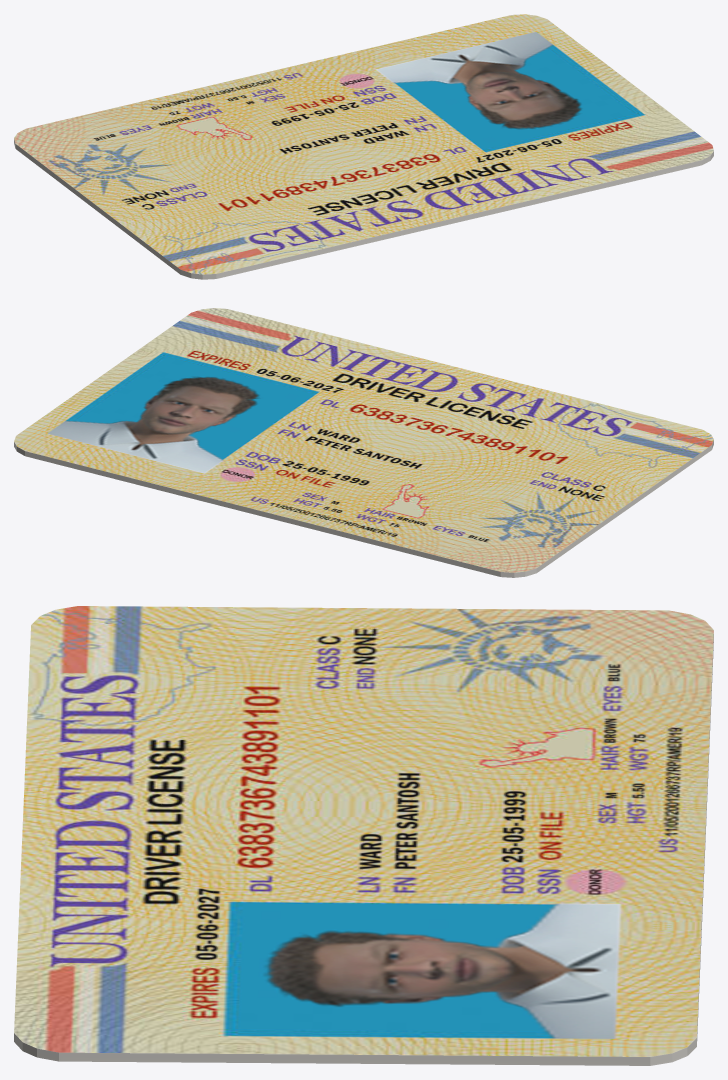
File: driveing_license_card.fbx
3 renders of one model, top to bottom at view 1: azimuth 30°, elevation 25°; view 2: azimuth 150°, elevation 25°; view 3: azimuth 270°, elevation 25°, orthographic. The views are drawn at different scales.
Parts seen in each view (by area): view 1: card_geo; view 2: card_geo; view 3: card_geo.
Part boxes in pixels (x1,y1,x2,y2): card_geo: (14, 14, 713, 279); card_geo: (14, 308, 713, 577); card_geo: (14, 606, 713, 1065).
Bounding box in the file's own units: 7.52 × 0.0696 × 4.93.
1 material, 1 textured.
